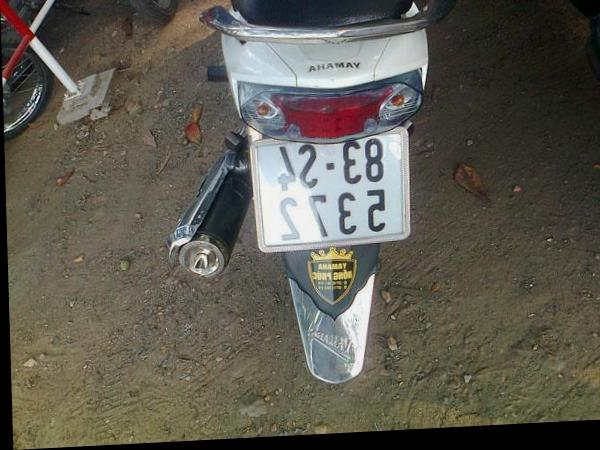License_Plate: (260, 129, 406, 252)
